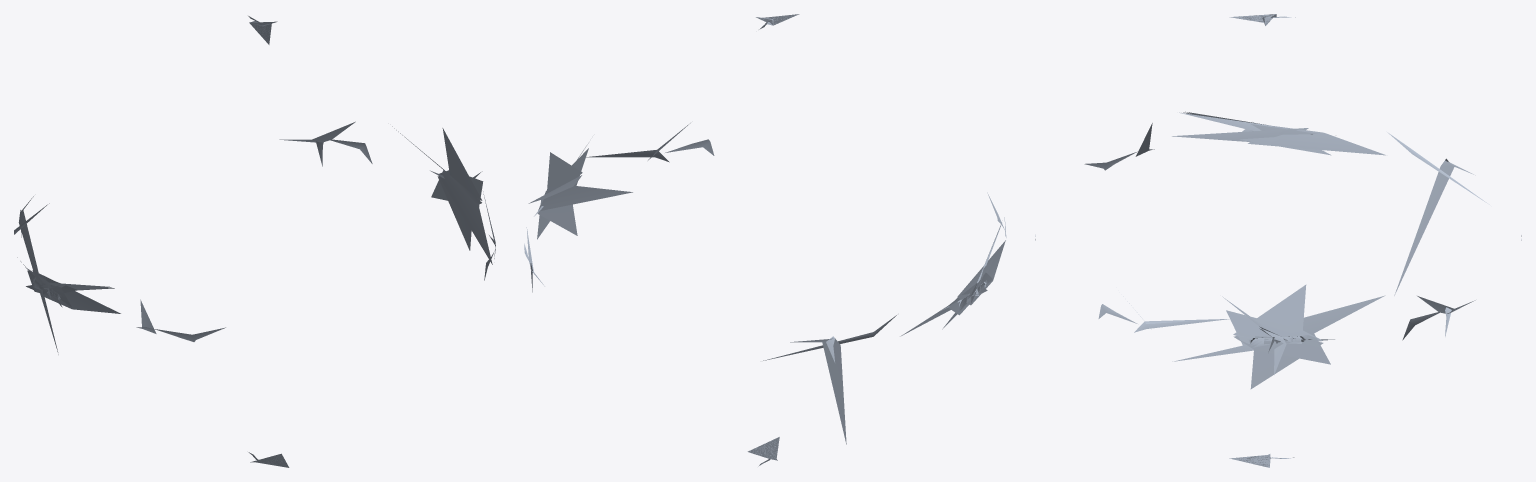
File: stage7.glb
3 views of the same model, side by side, from view 1: azimuth 30°, elevation 25°; view 2: azimuth 150°, elevation 25°; view 3: azimuth 270°, elevation 25° (orthographic).
Parts seen in each view (by area): view 1: dsf-7-structural; view 2: dsf-7-structural; view 3: dsf-7-structural.
Boxes of the visible parts, <box> form: dsf-7-structural: <box>14,16,495,467</box>; dsf-7-structural: <box>524,14,1006,466</box>; dsf-7-structural: <box>1035,14,1521,467</box>.
Bounding box in the file's own units: 2 × 2 × 2.
